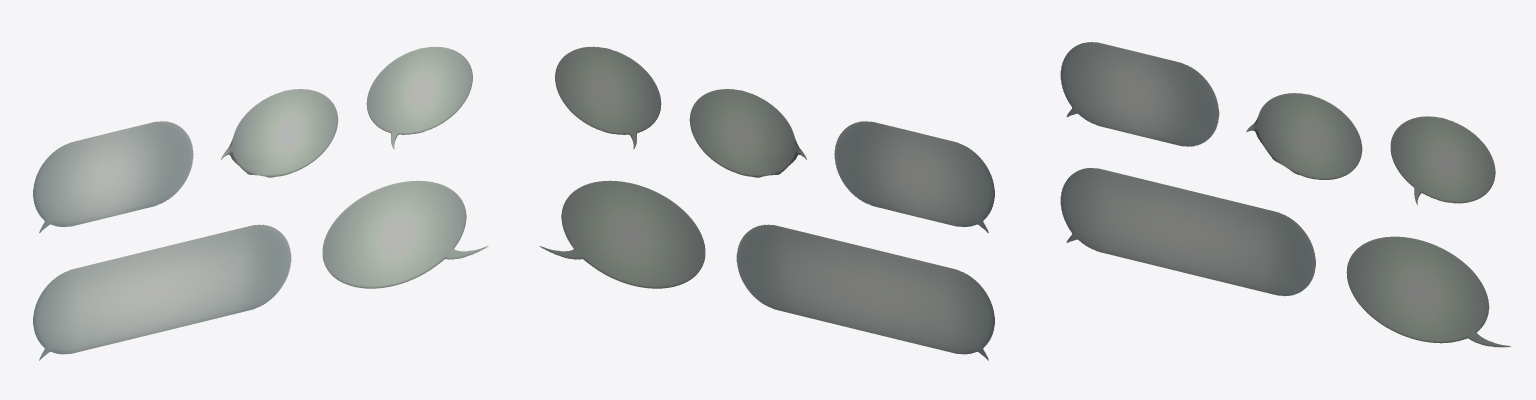
Rendered from Baloons.FBX.
3 renders of one model, left to right at view 1: azimuth 30°, elevation 25°; view 2: azimuth 150°, elevation 25°; view 3: azimuth 330°, elevation 25°, orthographic.
Visible parts, largest first — view 1: Baloon Wider, Baloon Wide, Baloon Oval, Baloon Side, Baloon Top; view 2: Baloon Wider, Baloon Wide, Baloon Oval, Baloon Side, Baloon Top; view 3: Baloon Wider, Baloon Wide, Baloon Oval, Baloon Side, Baloon Top.
Boxes of the visible parts, left/top/right/bottom form: Baloon Wider: left=33, top=224, right=291, bottom=360; Baloon Wide: left=33, top=121, right=193, bottom=233; Baloon Oval: left=322, top=180, right=488, bottom=288; Baloon Side: left=221, top=89, right=338, bottom=177; Baloon Top: left=366, top=46, right=472, bottom=149; Baloon Wider: left=736, top=224, right=994, bottom=360; Baloon Wide: left=834, top=121, right=994, bottom=233; Baloon Oval: left=539, top=180, right=705, bottom=288; Baloon Side: left=689, top=89, right=806, bottom=177; Baloon Top: left=555, top=46, right=661, bottom=149; Baloon Wider: left=1060, top=168, right=1315, bottom=296; Baloon Wide: left=1060, top=42, right=1219, bottom=146; Baloon Oval: left=1346, top=236, right=1510, bottom=347; Baloon Side: left=1246, top=93, right=1362, bottom=179; Baloon Top: left=1390, top=116, right=1495, bottom=205.
Size of the model in its own units: 99.51 by 9.1e-06 by 52.83.
